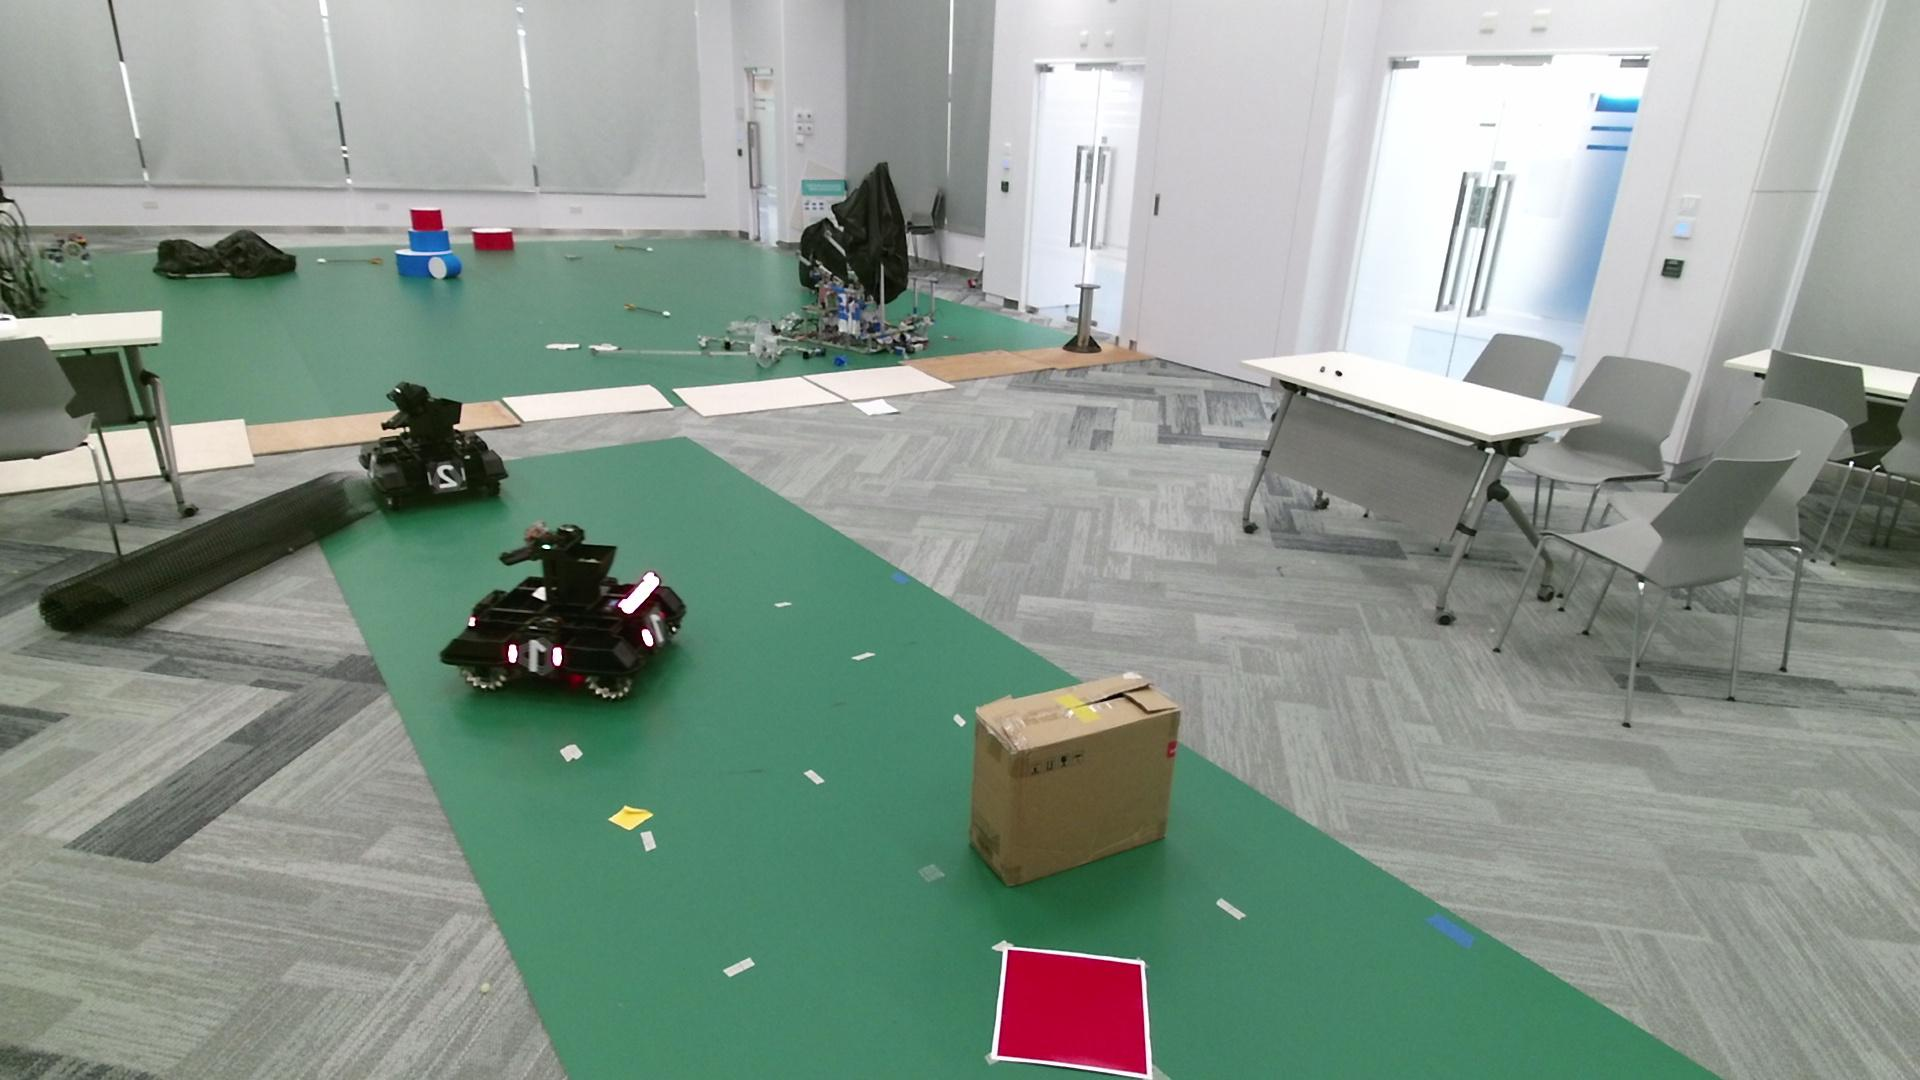robot: (438, 520, 686, 703), (357, 380, 509, 512)
